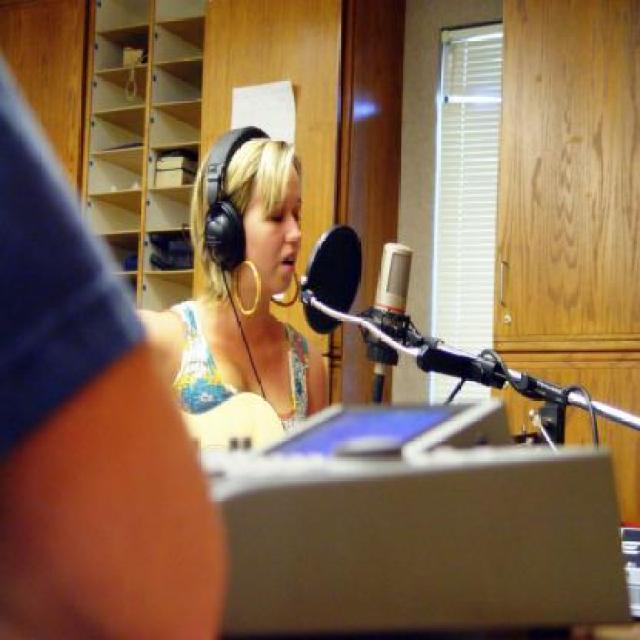earphone: (188, 103, 254, 280)
